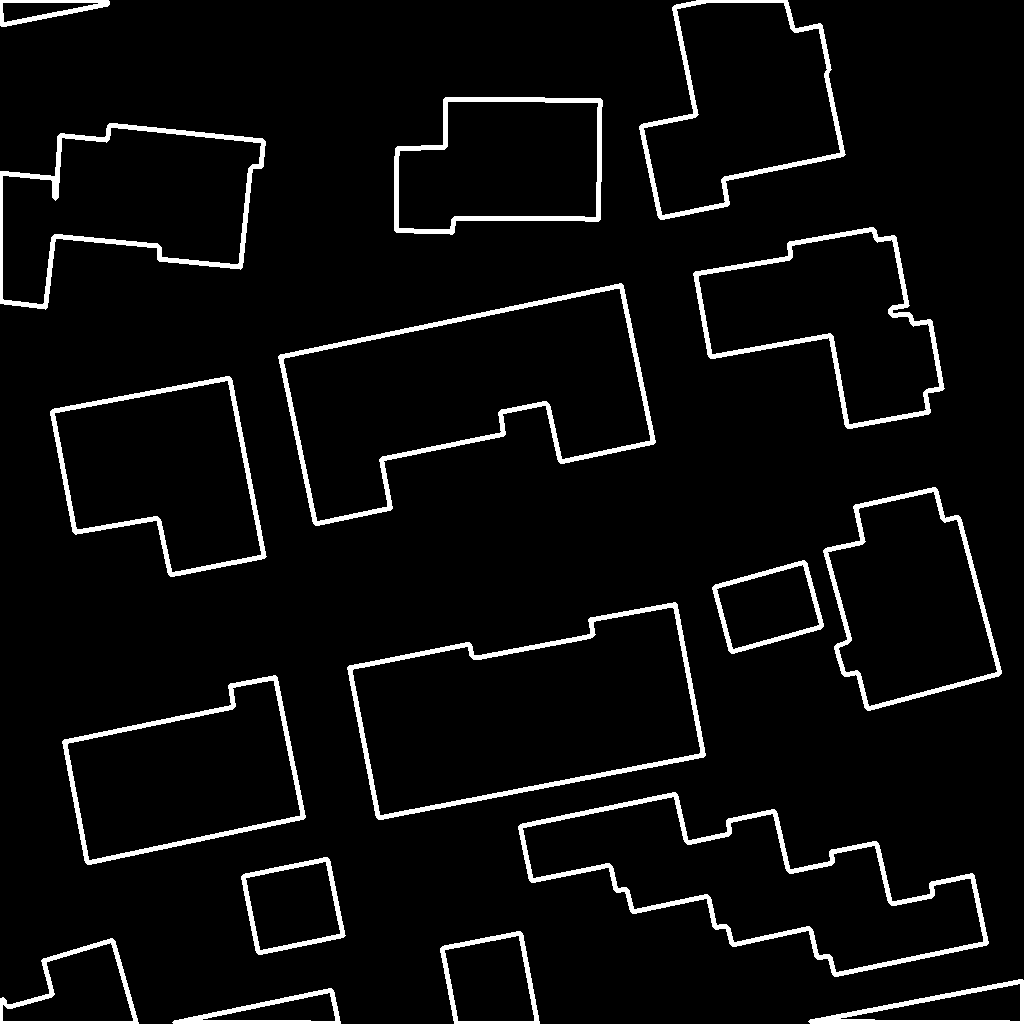building: (280, 285, 655, 525), (520, 794, 988, 976), (349, 604, 705, 819), (695, 229, 943, 428), (64, 677, 305, 864), (641, 0, 844, 219), (52, 378, 265, 576), (825, 489, 1001, 710), (53, 125, 265, 268), (396, 99, 601, 233), (0, 940, 138, 1024), (714, 562, 823, 653), (243, 859, 344, 954), (808, 981, 1024, 1024), (442, 933, 539, 1024), (0, 173, 56, 308), (172, 990, 340, 1024), (0, 0, 109, 26)
